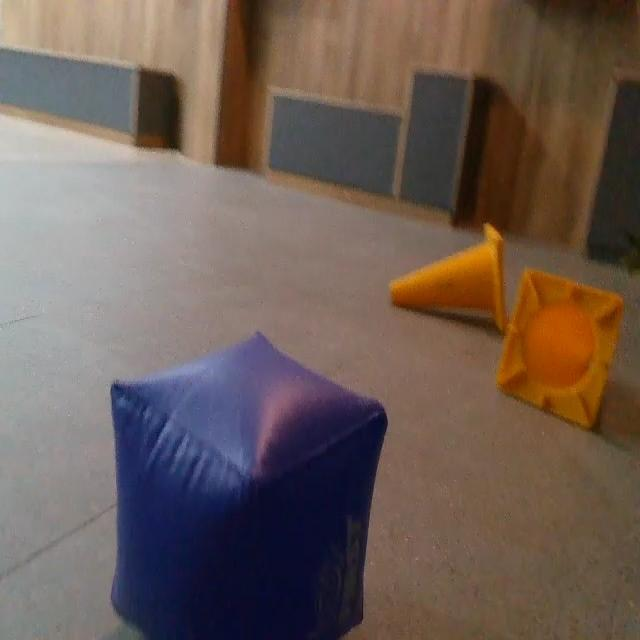cone: (498, 268, 626, 435), (389, 222, 510, 335)
cube: (110, 327, 388, 640)
